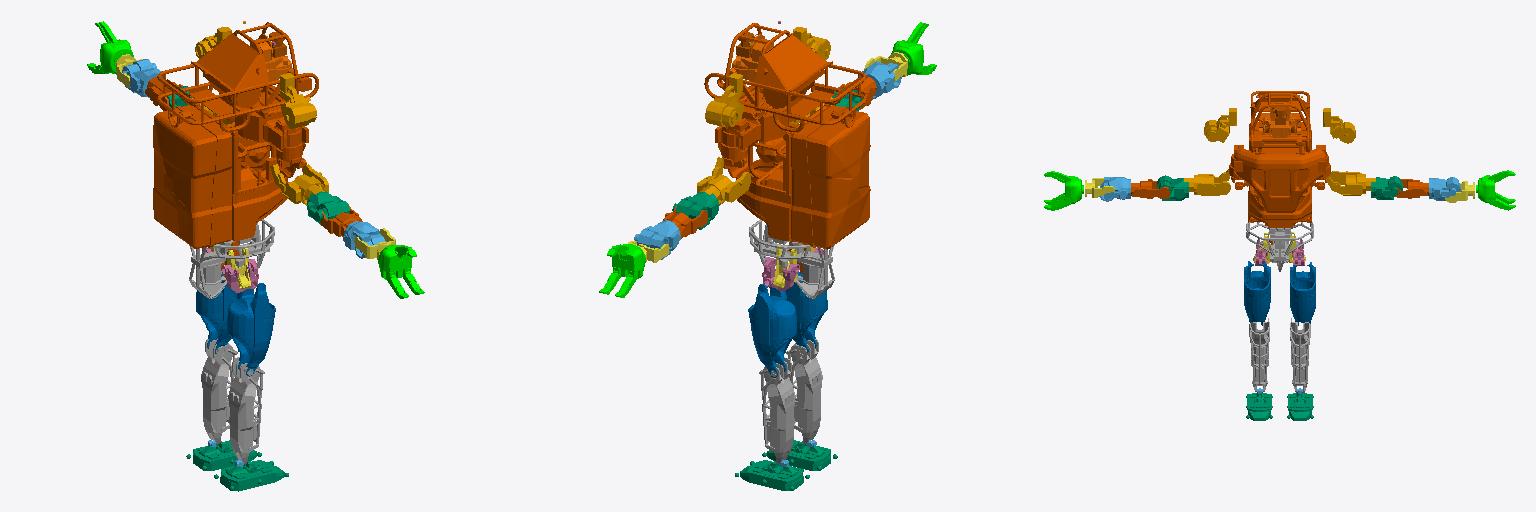
--- What the picture shows (computed from the rendered views, not written in the file) ---
The picture shows the robot from 3 angles, left to right: view 1: azimuth 30°, elevation 25°; view 2: azimuth 150°, elevation 25°; view 3: azimuth 270°, elevation 25°; orthographic projection.
Model atlas with 94 links and 93 joints (28 revolute, 65 fixed), rooted at pelvis, posed every joint at zero.
Links seen in each view (by area): view 1: utorso, r_uleg, r_lleg, l_lleg, pelvis, l_uleg, r_foot, r_scap, r_clav, l_foot, r_uarm, l_ufarm (+7 smaller); view 2: utorso, l_uleg, l_lleg, r_lleg, pelvis, r_uleg, l_foot, l_clav, l_scap, r_foot, l_ufarm, l_uarm (+7 smaller); view 3: utorso, r_uleg, l_uleg, pelvis, l_lleg, r_lleg, l_scap, r_scap, r_clav, head, l_foot, r_foot (+6 smaller).
Link boxes in pixels (x1=…): utorso: x1=153, y1=22, x2=318, y2=248; r_uleg: x1=227, y1=283, x2=275, y2=376; r_lleg: x1=228, y1=357, x2=264, y2=463; l_lleg: x1=201, y1=339, x2=237, y2=443; pelvis: x1=189, y1=219, x2=274, y2=298; l_uleg: x1=196, y1=273, x2=237, y2=353; r_foot: x1=214, y1=460, x2=288, y2=491; r_scap: x1=270, y1=164, x2=328, y2=205; r_clav: x1=280, y1=73, x2=316, y2=128; l_foot: x1=186, y1=440, x2=261, y2=470; r_uarm: x1=307, y1=190, x2=349, y2=224; l_ufarm: x1=122, y1=59, x2=162, y2=97; utorso: x1=704, y1=23, x2=870, y2=249; l_uleg: x1=748, y1=284, x2=796, y2=377; l_lleg: x1=759, y1=357, x2=795, y2=463; r_lleg: x1=786, y1=339, x2=822, y2=443; pelvis: x1=749, y1=219, x2=834, y2=299; r_uleg: x1=785, y1=272, x2=827, y2=352; l_foot: x1=735, y1=460, x2=809, y2=490; l_clav: x1=705, y1=73, x2=743, y2=126; l_scap: x1=697, y1=157, x2=750, y2=205; r_foot: x1=762, y1=440, x2=837, y2=470; l_ufarm: x1=634, y1=220, x2=680, y2=259; l_uarm: x1=672, y1=192, x2=718, y2=229; utorso: x1=1229, y1=91, x2=1330, y2=227; r_uleg: x1=1244, y1=261, x2=1270, y2=325; l_uleg: x1=1290, y1=262, x2=1315, y2=325; pelvis: x1=1246, y1=222, x2=1313, y2=271; l_lleg: x1=1290, y1=318, x2=1310, y2=392; r_lleg: x1=1249, y1=318, x2=1269, y2=391; l_scap: x1=1326, y1=171, x2=1375, y2=195; r_scap: x1=1184, y1=169, x2=1230, y2=195; r_clav: x1=1204, y1=108, x2=1236, y2=142; head: x1=1259, y1=102, x2=1300, y2=137; l_foot: x1=1287, y1=393, x2=1313, y2=420; r_foot: x1=1246, y1=393, x2=1272, y2=420.
Size in the robot's own frame: 0.6238 by 2.6 by 1.96 metres.
Meshes: 29 distinct files referenced, 56 mesh visuals loaded (29 OBJ).

The robot description file, URDF, robot "atlas":
<?xml version="1.0" ?>
<!-- =================================================================================== -->
<!-- |    This document was autogenerated by xacro from atlas_v4_minimal_contact.xacro | -->
<!-- |    EDITING THIS FILE BY HAND IS NOT RECOMMENDED                                 | -->
<!-- =================================================================================== -->
<robot name="atlas" xmlns:xacro="http://ros.org/wiki/xacro">
  <link name="l_clav">
    <inertial>
      <mass value="4.466"/>
      <origin rpy="0 -0 0" xyz="0 -0.048 -0.084"/>
      <inertia ixx="0.011" ixy="0" ixz="0" iyy="0.009" iyz="0.004" izz="0.004"/>
    </inertial>
    <visual>
      <geometry>
        <mesh filename="package://atlas_v4/meshes/r_clav.obj" scale="1 1 1"/>
      </geometry>
    </visual>
  </link>
  <link name="l_ufarm">
    <inertial>
      <mass value="4.386"/>
      <origin rpy="0 -0 0" xyz="0 0.065 0"/>
      <inertia ixx="0.00656" ixy="0" ixz="0" iyy="0.00358" iyz="0" izz="0.00656"/>
    </inertial>
    <visual>
      <geometry>
        <mesh filename="package://atlas_v4/meshes/r_farm.obj" scale="1 1 1"/>
      </geometry>
    </visual>
  </link>
  <link name="l_foot">
    <inertial>
      <mass value="2.41"/>
      <origin rpy="0 -0 0" xyz="0.027 0 -0.067"/>
      <inertia ixx="0.002" ixy="0" ixz="0" iyy="0.007" iyz="0" izz="0.008"/>
    </inertial>
    <visual>
      <geometry>
        <mesh filename="package://atlas_v4/meshes/l_foot.obj" scale="1 1 1"/>
      </geometry>
    </visual>
    <collision group="heel">
      <origin rpy="0 0 0" xyz="-0.0876 0.066 -0.07645"/>
      <geometry>
        <sphere radius="0.0"/>
      </geometry>
    </collision>
    <visual group="heel">
      <origin rpy="0 0 0" xyz="-0.0876 0.066 -0.07645"/>
      <geometry>
        <sphere radius="0.01"/>
      </geometry>
    </visual>
    <collision group="heel">
      <origin rpy="0 0 0" xyz="-0.0876 -0.0626 -0.07645"/>
      <geometry>
        <sphere radius="0.0"/>
      </geometry>
    </collision>
    <visual group="heel">
      <origin rpy="0 0 0" xyz="-0.0876 -0.0626 -0.07645"/>
      <geometry>
        <sphere radius="0.01"/>
      </geometry>
    </visual>
    <collision group="toe">
      <origin rpy="0 0 0" xyz="0.1728 0.066 -0.07645"/>
      <geometry>
        <sphere radius="0.0"/>
      </geometry>
    </collision>
    <visual group="toe">
      <origin rpy="0 0 0" xyz="0.1728 0.066 -0.07645"/>
      <geometry>
        <sphere radius="0.01"/>
      </geometry>
    </visual>
    <collision group="toe">
      <origin rpy="0 0 0" xyz="0.1728 -0.0626 -0.07645"/>
      <geometry>
        <sphere radius="0.0"/>
      </geometry>
    </collision>
    <visual group="toe">
      <origin rpy="0 0 0" xyz="0.1728 -0.0626 -0.07645"/>
      <geometry>
        <sphere radius="0.01"/>
      </geometry>
    </visual>
    <collision group="midfoot">
      <origin rpy="0 0 0" xyz="0.0426 0.066 -0.07645"/>
      <geometry>
        <sphere radius="0.0"/>
      </geometry>
    </collision>
    <visual group="midfoot">
      <origin rpy="0 0 0" xyz="0.0426 0.066 -0.07645"/>
      <geometry>
        <sphere radius="0.01"/>
      </geometry>
    </visual>
    <collision group="midfoot">
      <origin rpy="0 0 0" xyz="0.0426 -0.0626 -0.07645"/>
      <geometry>
        <sphere radius="0.0"/>
      </geometry>
    </collision>
    <visual group="midfoot">
      <origin rpy="0 0 0" xyz="0.0426 -0.0626 -0.07645"/>
      <geometry>
        <sphere radius="0.01"/>
      </geometry>
    </visual>
  </link>
  <link name="l_lfarm">
    <inertial>
      <mass value="2.509"/>
      <origin rpy="0 -0 0" xyz="0 0 0"/>
      <inertia ixx="0.00265" ixy="0" ixz="0" iyy="0.00446" iyz="0" izz="0.00446"/>
    </inertial>
    <visual>
      <geometry>
        <mesh filename="package://atlas_v4/meshes/r_hand.obj" scale="1 1 1"/>
      </geometry>
      <origin rpy="0 3.14159265359 0" xyz="0 0 0"/>
    </visual>
  </link>
  <link name="l_hand">
    <inertial>
      <mass value="0.1"/>
      <origin rpy="0 0 0" xyz="0 0 0"/>
      <inertia ixx="0.0001" ixy="0" ixz="0" iyy="0.0001" iyz="0" izz="0.0001"/>
    </inertial>
  </link>
  <link name="l_larm">
    <inertial>
      <mass value="3.248"/>
      <origin rpy="0 -0 0" xyz="0 0 0"/>
      <inertia ixx="0.00265" ixy="0" ixz="0" iyy="0.00446" iyz="0" izz="0.00446"/>
    </inertial>
    <visual>
      <geometry>
        <mesh filename="package://atlas_v4/meshes/r_larm.obj" scale="1 1 1"/>
      </geometry>
    </visual>
  </link>
  <link name="l_lglut">
    <inertial>
      <mass value="0.898"/>
      <origin rpy="0 -0 0" xyz="0.0133341 0.0170484 -0.0312052"/>
      <inertia ixx="0.000691326" ixy="-2.24344e-05" ixz="2.50508e-06" iyy="0.00126856" iyz="0.000137862" izz="0.00106487"/>
    </inertial>
    <visual>
      <geometry>
        <mesh filename="package://atlas_v4/meshes/l_lglut.obj" scale="1 1 1"/>
      </geometry>
    </visual>
  </link>
  <link name="l_lleg">
    <inertial>
      <mass value="4.515"/>
      <origin rpy="0 -0 0" xyz="0.001 0 -0.187"/>
      <inertia ixx="0.077" ixy="0" ixz="-0.003" iyy="0.076" iyz="0" izz="0.01"/>
    </inertial>
    <visual>
      <geometry>
        <mesh filename="package://atlas_v4/meshes/l_lleg.obj" scale="1 1 1"/>
      </geometry>
    </visual>
  </link>
  <link name="l_scap">
    <inertial>
      <mass value="3.899"/>
      <origin rpy="0 -0 0" xyz="0 0 0"/>
      <inertia ixx="0.00319" ixy="0" ixz="0" iyy="0.00583" iyz="0" izz="0.00583"/>
    </inertial>
    <visual>
      <geometry>
        <mesh filename="package://atlas_v4/meshes/r_scap.obj" scale="1 1 1"/>
      </geometry>
    </visual>
  </link>
  <link name="l_talus">
    <inertial>
      <mass value="0.125"/>
      <origin rpy="0 -0 0" xyz="0 0 0"/>
      <inertia ixx="1.01674e-05" ixy="0" ixz="0" iyy="8.42775e-06" iyz="0" izz="1.30101e-05"/>
    </inertial>
    <visual>
      <geometry>
        <mesh filename="package://atlas_v4/meshes/l_talus.obj" scale="1 1 1"/>
      </geometry>
    </visual>
  </link>
  <link name="l_uarm">
    <inertial>
      <mass value="4.386"/>
      <origin rpy="0 -0 0" xyz="0 0.065 0"/>
      <inertia ixx="0.00656" ixy="0" ixz="0" iyy="0.00358" iyz="0" izz="0.00656"/>
    </inertial>
    <visual>
      <geometry>
        <mesh filename="package://atlas_v4/meshes/r_uarm.obj" scale="1 1 1"/>
      </geometry>
    </visual>
  </link>
  <link name="l_uglut">
    <inertial>
      <mass value="1.959"/>
      <origin rpy="0 -0 0" xyz="0.00529262 -0.00344732 0.00313046"/>
      <inertia ixx="0.00074276" ixy="-3.79607e-08" ixz="-2.79549e-05" iyy="0.000688179" iyz="-3.2735e-08" izz="0.00041242"/>
    </inertial>
    <visual>
      <geometry>
        <mesh filename="package://atlas_v4/meshes/l_uglut.obj" scale="1 1 1"/>
      </geometry>
    </visual>
  </link>
  <link name="l_uleg">
    <inertial>
      <mass value="8.204"/>
      <origin rpy="0 -0 0" xyz="0 0 -0.21"/>
      <inertia ixx="0.09" ixy="0" ixz="0" iyy="0.09" iyz="0" izz="0.02"/>
    </inertial>
    <visual>
      <geometry>
        <mesh filename="package://atlas_v4/meshes/l_uleg.obj" scale="1 1 1"/>
      </geometry>
    </visual>
    <!-- to cover the logo shield -->
    <!-- inside strut -->
    <!-- outside strut -->
  </link>
  <link name="ltorso">
    <inertial>
      <mass value="2.270"/>
      <origin rpy="0 -0 0" xyz="-0.0112984 -3.15366e-06 0.0746835"/>
      <inertia ixx="0.0039092" ixy="-5.04491e-08" ixz="-0.000342157" iyy="0.00341694" iyz="4.87119e-07" izz="0.00174492"/>
    </inertial>
    <visual>
      <geometry>
        <mesh filename="package://atlas_v4/meshes/ltorso.obj" scale="1 1 1"/>
      </geometry>
    </visual>
  </link>
  <link name="mtorso">
    <inertial>
      <mass value="0.799"/>
      <origin rpy="0 -0 0" xyz="-0.00816266 -0.0131245 0.0305974"/>
      <inertia ixx="0.000454181" ixy="-6.10764e-05" ixz="3.94009e-05" iyy="0.000483282" iyz="5.27463e-05" izz="0.000444215"/>
    </inertial>
    <visual>
      <geometry>
        <mesh filename="package://atlas_v4/meshes/mtorso.obj" scale="1 1 1"/>
      </geometry>
    </visual>
  </link>
  <link name="pelvis">
    <inertial>
      <mass value="9.509"/>
      <origin rpy="0 -0 0" xyz="0.0111 0 0.0271"/>
      <inertia ixx="0.1244" ixy="0.0008" ixz="-0.0007" iyy="0.0958" iyz="-0.0005" izz="0.1167"/>
    </inertial>
    <visual>
      <geometry>
        <mesh filename="package://atlas_v4/meshes/pelvis.obj" scale="1 1 1"/>
      </geometry>
    </visual>
  </link>
  <link name="r_clav">
    <inertial>
      <mass value="4.466"/>
      <origin rpy="0 -0 0" xyz="0 -0.048 -0.084"/>
      <inertia ixx="0.011" ixy="0" ixz="0" iyy="0.009" iyz="0.004" izz="0.004"/>
    </inertial>
    <visual>
      <geometry>
        <mesh filename="package://atlas_v4/meshes/r_clav.obj" scale="1 1 1"/>
      </geometry>
    </visual>
  </link>
  <link name="r_ufarm">
    <inertial>
      <mass value="4.386"/>
      <origin rpy="0 -0 0" xyz="0 0.065 0"/>
      <inertia ixx="0.00656" ixy="0" ixz="0" iyy="0.00358" iyz="0" izz="0.00656"/>
    </inertial>
    <visual>
      <geometry>
        <mesh filename="package://atlas_v4/meshes/r_farm.obj" scale="1 1 1"/>
      </geometry>
    </visual>
  </link>
  <link name="r_foot">
    <inertial>
      <mass value="2.41"/>
      <origin rpy="0 -0 0" xyz="0.027 0 -0.067"/>
      <inertia ixx="0.002" ixy="0" ixz="0" iyy="0.007" iyz="0" izz="0.008"/>
    </inertial>
    <visual>
      <geometry>
        <mesh filename="package://atlas_v4/meshes/r_foot.obj" scale="1 1 1"/>
      </geometry>
    </visual>
    <collision group="heel">
      <origin rpy="0 0 0" xyz="-0.0876 0.0626 -0.07645"/>
      <geometry>
        <sphere radius="0.0"/>
      </geometry>
    </collision>
    <visual group="heel">
      <origin rpy="0 0 0" xyz="-0.0876 0.0626 -0.07645"/>
      <geometry>
        <sphere radius="0.01"/>
      </geometry>
    </visual>
    <collision group="heel">
      <origin rpy="0 0 0" xyz="-0.0876 -0.066 -0.07645"/>
      <geometry>
        <sphere radius="0.0"/>
      </geometry>
    </collision>
    <visual group="heel">
      <origin rpy="0 0 0" xyz="-0.0876 -0.066 -0.07645"/>
      <geometry>
        <sphere radius="0.01"/>
      </geometry>
    </visual>
    <collision group="toe">
      <origin rpy="0 0 0" xyz="0.1728 0.0626 -0.07645"/>
      <geometry>
        <sphere radius="0.0"/>
      </geometry>
    </collision>
    <visual group="toe">
      <origin rpy="0 0 0" xyz="0.1728 0.0626 -0.07645"/>
      <geometry>
        <sphere radius="0.01"/>
      </geometry>
    </visual>
    <collision group="toe">
      <origin rpy="0 0 0" xyz="0.1728 -0.066 -0.07645"/>
      <geometry>
        <sphere radius="0.0"/>
      </geometry>
    </collision>
    <visual group="toe">
      <origin rpy="0 0 0" xyz="0.1728 -0.066 -0.07645"/>
      <geometry>
        <sphere radius="0.01"/>
      </geometry>
    </visual>
    <collision group="midfoot">
      <origin rpy="0 0 0" xyz="0.0426 0.0626 -0.07645"/>
      <geometry>
        <sphere radius="0.0"/>
      </geometry>
    </collision>
    <visual group="midfoot">
      <origin rpy="0 0 0" xyz="0.0426 0.0626 -0.07645"/>
      <geometry>
        <sphere radius="0.01"/>
      </geometry>
    </visual>
    <collision group="midfoot">
      <origin rpy="0 0 0" xyz="0.0426 -0.066 -0.07645"/>
      <geometry>
        <sphere radius="0.0"/>
      </geometry>
    </collision>
    <visual group="midfoot">
      <origin rpy="0 0 0" xyz="0.0426 -0.066 -0.07645"/>
      <geometry>
        <sphere radius="0.01"/>
      </geometry>
    </visual>
  </link>
  <link name="r_lfarm">
    <inertial>
      <mass value="2.509"/>
      <origin rpy="0 -0 0" xyz="0 0 0"/>
      <inertia ixx="0.00265" ixy="0" ixz="0" iyy="0.00446" iyz="0" izz="0.00446"/>
    </inertial>
    <visual>
      <geometry>
        <mesh filename="package://atlas_v4/meshes/r_hand.obj" scale="1 1 1"/>
      </geometry>
      <origin rpy="0 3.14159265359 0" xyz="0 0 0"/>
    </visual>
  </link>
  <link name="r_hand">
    <inertial>
      <mass value="0.1"/>
      <origin rpy="0 0 0" xyz="0 0 0"/>
      <inertia ixx="0.0001" ixy="0" ixz="0" iyy="0.0001" iyz="0" izz="0.0001"/>
    </inertial>
  </link>
  <link name="r_larm">
    <inertial>
      <mass value="3.248"/>
      <origin rpy="0 -0 0" xyz="0 0 0"/>
      <inertia ixx="0.00265" ixy="0" ixz="0" iyy="0.00446" iyz="0" izz="0.00446"/>
    </inertial>
    <visual>
      <geometry>
        <mesh filename="package://atlas_v4/meshes/r_larm.obj" scale="1 1 1"/>
      </geometry>
    </visual>
  </link>
  <link name="r_lglut">
    <inertial>
      <mass value="0.898"/>
      <origin rpy="0 -0 0" xyz="0.0133341 -0.0170484 -0.0312052"/>
      <inertia ixx="0.000691326" ixy="2.24344e-05" ixz="2.50508e-06" iyy="0.00126856" iyz="-0.000137862" izz="0.00106487"/>
    </inertial>
    <visual>
      <geometry>
        <mesh filename="package://atlas_v4/meshes/r_lglut.obj" scale="1 1 1"/>
      </geometry>
    </visual>
  </link>
  <link name="r_lleg">
    <inertial>
      <mass value="4.515"/>
      <origin rpy="0 -0 0" xyz="0.001 0 -0.187"/>
      <inertia ixx="0.077" ixy="-0" ixz="-0.003" iyy="0.076" iyz="-0" izz="0.01"/>
    </inertial>
    <visual>
      <geometry>
        <mesh filename="package://atlas_v4/meshes/r_lleg.obj" scale="1 1 1"/>
      </geometry>
    </visual>
  </link>
  <link name="r_scap">
    <inertial>
      <mass value="3.899"/>
      <origin rpy="0 -0 0" xyz="0 0 0"/>
      <inertia ixx="0.00319" ixy="0" ixz="0" iyy="0.00583" iyz="0" izz="0.00583"/>
    </inertial>
    <visual>
      <geometry>
        <mesh filename="package://atlas_v4/meshes/r_scap.obj" scale="1 1 1"/>
      </geometry>
    </visual>
  </link>
  <link name="r_talus">
    <inertial>
      <mass value="0.125"/>
      <origin rpy="0 -0 0" xyz="0 0 0"/>
      <inertia ixx="1.01674e-05" ixy="0" ixz="0" iyy="8.42775e-06" iyz="0" izz="1.30101e-05"/>
    </inertial>
    <visual>
      <geometry>
        <mesh filename="package://atlas_v4/meshes/r_talus.obj" scale="1 1 1"/>
      </geometry>
    </visual>
  </link>
  <link name="r_uarm">
    <inertial>
      <mass value="4.386"/>
      <origin rpy="0 -0 0" xyz="0 0.065 0"/>
      <inertia ixx="0.00656" ixy="0" ixz="0" iyy="0.00358" iyz="0" izz="0.00656"/>
    </inertial>
    <visual>
      <geometry>
        <mesh filename="package://atlas_v4/meshes/r_uarm.obj" scale="1 1 1"/>
      </geometry>
    </visual>
  </link>
  <link name="r_uglut">
    <inertial>
      <mass value="1.959"/>
      <origin rpy="0 -0 0" xyz="0.00529262 0.00344732 0.00313046"/>
      <inertia ixx="0.00074276" ixy="3.79607e-08" ixz="-2.79549e-05" iyy="0.000688179" iyz="3.2735e-08" izz="0.00041242"/>
    </inertial>
    <visual>
      <geometry>
        <mesh filename="package://atlas_v4/meshes/r_uglut.obj" scale="1 1 1"/>
      </geometry>
    </visual>
  </link>
  <link name="r_uleg">
    <inertial>
      <mass value="8.204"/>
      <origin rpy="0 -0 0" xyz="0 0 -0.21"/>
      <inertia ixx="0.09" ixy="0" ixz="0" iyy="0.09" iyz="0" izz="0.02"/>
    </inertial>
    <visual>
      <geometry>
        <mesh filename="package://atlas_v4/meshes/r_uleg.obj" scale="1 1 1"/>
      </geometry>
    </visual>
    <!-- to cover the logo shield -->
    <!-- inside strut -->
    <!-- outside strut -->
  </link>
  <link name="utorso">
    <inertial>
      <mass value="84.409"/>
      <origin rpy="0 -0 0" xyz="-0.0622 0.0023 0.3157"/>
      <inertia ixx="1.577" ixy="-0.032" ixz="0.102" iyy="1.602" iyz="0.047" izz="0.565"/>
    </inertial>
    <visual>
      <geometry>
        <mesh filename="package://atlas_v4/meshes/utorso.obj" scale="1 1 1"/>
      </geometry>
    </visual>
  </link>
  <joint name="back_bkx" type="revolute">
    <origin rpy="0 -0 0" xyz="0 0 0.05"/>
    <axis xyz="1 0 0"/>
    <parent link="mtorso"/>
    <child link="utorso"/>
    <dynamics damping="0.1" friction="0"/>
    <limit effort="300" lower="-0.523599" upper="0.523599" velocity="12"/>
    <safety_controller k_position="100" k_velocity="100" soft_lower_limit="-10.5236" soft_upper_limit="10.5236"/>
  </joint>
  <joint name="back_bky" type="revolute">
    <origin rpy="0 -0 0" xyz="0 0 0.162"/>
    <axis xyz="0 1 0"/>
    <parent link="ltorso"/>
    <child link="mtorso"/>
    <dynamics damping="0.1" friction="0"/>
    <limit effort="445" lower="-0.219388" upper="0.538783" velocity="9"/>
    <safety_controller k_position="100" k_velocity="100" soft_lower_limit="-10.2194" soft_upper_limit="10.5388"/>
  </joint>
  <joint name="back_bkz" type="revolute">
    <origin rpy="0 -0 0" xyz="-0.0125 0 0"/>
    <axis xyz="0 0 1"/>
    <parent link="pelvis"/>
    <child link="ltorso"/>
    <dynamics damping="0.1" friction="0"/>
    <limit effort="106" lower="-0.663225" upper="0.663225" velocity="12"/>
    <safety_controller k_position="100" k_velocity="100" soft_lower_limit="-10.6632" soft_upper_limit="10.6632"/>
  </joint>
  <joint name="l_arm_elx" type="revolute">
    <origin rpy="0 -0 0" xyz="0 -0.119 0.0092"/>
    <axis xyz="-1.0 -0.0 -0.0"/>
    <parent link="l_uarm"/>
    <child link="l_larm"/>
    <dynamics damping="0.2" friction="0"/>
    <limit effort="112" lower="0" upper="2.35619" velocity="12"/>
    <safety_controller k_position="100" k_velocity="100" soft_lower_limit="-10" soft_upper_limit="12.3562"/>
  </joint>
  <joint name="l_arm_ely" type="revolute">
    <origin rpy="0 -0 0" xyz="0 -0.187 -0.016"/>
    <axis xyz="-0.0 -1.0 -0.0"/>
    <parent link="l_scap"/>
    <child link="l_uarm"/>
    <dynamics damping="0.2" friction="0"/>
    <limit effort="63" lower="0" upper="3.14159" velocity="12"/>
    <safety_controller k_position="100" k_velocity="100" soft_lower_limit="-10" soft_upper_limit="13.1416"/>
  </joint>
  <joint name="l_arm_shx" type="revolute">
    <origin rpy="0 -0 0" xyz="0 -0.11 -0.245"/>
    <axis xyz="-1.0 -0.0 -0.0"/>
    <parent link="l_clav"/>
    <child link="l_scap"/>
    <dynamics damping="0.1" friction="0"/>
    <limit effort="99" lower="-1.5708" upper="1.5708" velocity="12"/>
    <safety_controller k_position="100" k_velocity="100" soft_lower_limit="-11.5708" soft_upper_limit="11.5708"/>
  </joint>
  <joint name="l_arm_shz" type="revolute">
    <origin rpy="0 0 3.14159265359" xyz="0.1406 0.2256 0.4776"/>
    <axis xyz="0 0 1"/>
    <parent link="utorso"/>
    <child link="l_clav"/>
    <dynamics damping="0.1" friction="0"/>
    <limit effort="87" lower="-1.5708" upper="0.785398" velocity="12"/>
    <safety_controller k_position="100" k_velocity="100" soft_lower_limit="-11.5708" soft_upper_limit="10.7854"/>
    <!-- note, this is opposite of v1 and v3 -->
  </joint>
  <joint name="l_arm_mwx" type="revolute">
    <origin rpy="0 -0 0" xyz="0 -0.119 0.0092"/>
    <axis xyz="1 0 0"/>
    <parent link="l_ufarm"/>
    <child link="l_lfarm"/>
    <dynamics damping="0.1" friction="0"/>
    <limit effort="25" lower="-1.1781" upper="1.1781" velocity="12"/>
    <safety_controller k_position="100" k_velocity="100" soft_lower_limit="-11.1781" soft_upper_limit="11.1781"/>
  </joint>
  <joint name="l_arm_uwy" type="revolute">
    <origin rpy="0 3.14159265359 0" xyz="0 -0.187 -0.0092"/>
    <axis xyz="-0.0 -1.0 -0.0"/>
    <parent link="l_larm"/>
    <child link="l_ufarm"/>
    <dynamics damping="0.1" friction="0"/>
    <limit effort="25" lower="0" upper="3.14159" velocity="12"/>
    <safety_controller k_position="100" k_velocity="100" soft_lower_limit="-10" soft_upper_limit="13.1416"/>
  </joint>
  <joint name="l_arm_lwy" type="fixed">
    <origin rpy="0 3.14159265359 0" xyz="0 0 0"/>
    <axis xyz="0 1 0"/>
    <parent link="l_lfarm"/>
    <child link="l_hand"/>
    <dynamics damping="0.1" friction="0"/>
    <limit effort="5" lower="-0.001" upper="0.001" velocity="1"/>
    <safety_controller k_position="1" k_velocity="0.01" soft_lower_limit="0" soft_upper_limit="0.1"/>
  </joint>
  <joint name="l_leg_akx" type="revolute">
    <origin rpy="0 -0 0" xyz="0 0 0"/>
    <axis xyz="1 0 0"/>
    <parent link="l_talus"/>
    <child link="l_foot"/>
    <dynamics damping="0.1" friction="0"/>
    <limit effort="360" lower="-0.8" upper="0.8" velocity="12"/>
    <safety_controller k_position="100" k_velocity="100" soft_lower_limit="-10.8" soft_upper_limit="10.8"/>
  </joint>
  <joint name="l_leg_aky" type="revolute">
    <origin rpy="0 -0 0" xyz="0 0 -0.422"/>
    <axis xyz="0 1 0"/>
    <parent link="l_lleg"/>
    <child link="l_talus"/>
    <dynamics damping="0.1" friction="0"/>
    <limit effort="740" lower="-1" upper="0.7" velocity="12"/>
    <safety_controller k_position="100" k_velocity="100" soft_lower_limit="-11" soft_upper_limit="10.7"/>
  </joint>
  <joint name="l_leg_hpx" type="revolute">
    <origin rpy="0 -0 0" xyz="0 0 0"/>
    <axis xyz="1 0 0"/>
    <parent link="l_uglut"/>
    <child link="l_lglut"/>
    <dynamics damping="0.1" friction="0"/>
    <limit effort="530" lower="-0.523599" upper="0.523599" velocity="12"/>
    <safety_controller k_position="100" k_velocity="100" soft_lower_limit="-10.5236" soft_upper_limit="10.5236"/>
  </joint>
  <joint name="l_leg_hpy" type="revolute">
    <origin rpy="0 -0 0" xyz="0.05 0.0225 -0.066"/>
    <axis xyz="0 1 0"/>
    <parent link="l_lglut"/>
    <child link="l_uleg"/>
    <dynamics damping="0.1" friction="0"/>
    <limit effort="840" lower="-1.61234" upper="0.65764" velocity="12"/>
    <safety_controller k_position="100" k_velocity="100" soft_lower_limit="-11.6123" soft_upper_limit="10.6576"/>
  </joint>
  <joint name="l_leg_hpz" type="revolute">
    <origin rpy="0 -0 0" xyz="0 0.089 0"/>
    <axis xyz="0 0 1"/>
    <parent link="pelvis"/>
    <child link="l_uglut"/>
    <dynamics damping="0.1" friction="0"/>
    <limit effort="275" lower="-0.174358" upper="0.786794" velocity="12"/>
    <safety_controller k_position="100" k_velocity="100" soft_lower_limit="-10.1744" soft_upper_limit="10.7868"/>
  </joint>
  <joint name="l_leg_kny" type="revolute">
    <origin rpy="0 -0 0" xyz="-0.05 0 -0.374"/>
    <axis xyz="0 1 0"/>
    <parent link="l_uleg"/>
    <child link="l_lleg"/>
    <dynamics damping="0.2" friction="0"/>
    <limit effort="890" lower="0" upper="2.35637" velocity="12"/>
    <safety_controller k_position="100" k_velocity="100" soft_lower_limit="-10" soft_upper_limit="12.3564"/>
  </joint>
  <joint name="neck_ay" type="revolute">
    <origin rpy="0 -0 0" xyz="0.2546 0 0.6215"/>
    <axis xyz="0 1 0"/>
    <parent link="utorso"/>
    <child link="head"/>
    <dynamics damping="0.1" friction="0"/>
    <limit effort="5" lower="-0.602139" upper="1.14319" velocity="6.28"/>
    <safety_controller k_position="100" k_velocity="100" soft_lower_limit="-10.6021" soft_upper_limit="11.1432"/>
  </joint>
  <joint name="r_arm_elx" type="revolute">
    <origin rpy="0 -0 0" xyz="0 -0.119 0.0092"/>
    <axis xyz="1 0 0"/>
    <parent link="r_uarm"/>
    <child link="r_larm"/>
    <dynamics damping="0.2" friction="0"/>
    <limit effort="112" lower="-2.35619" upper="0" velocity="12"/>
    <safety_controller k_position="100" k_velocity="100" soft_lower_limit="-12.3562" soft_upper_limit="10"/>
  </joint>
  <joint name="r_arm_ely" type="revolute">
    <origin rpy="0 -0 0" xyz="0 -0.187 -0.016"/>
    <axis xyz="0 1 0"/>
    <parent link="r_scap"/>
    <child link="r_uarm"/>
    <dynamics damping="0.2" friction="0"/>
    <limit effort="63" lower="0" upper="3.14159" velocity="12"/>
    <safety_controller k_position="100" k_velocity="100" soft_lower_limit="-10" soft_upper_limit="13.1416"/>
  </joint>
  <joint name="r_arm_shx" type="revolute">
    <origin rpy="0 -0 0" xyz="0 -0.11 -0.245"/>
    <axis xyz="1 0 0"/>
    <parent link="r_clav"/>
    <child link="r_scap"/>
    <dynamics damping="0.1" friction="0"/>
    <limit effort="99" lower="-1.5708" upper="1.5708" velocity="12"/>
    <safety_controller k_position="100" k_velocity="100" soft_lower_limit="-11.5708" soft_upper_limit="11.5708"/>
  </joint>
  <joint name="r_arm_shz" type="revolute">
    <origin rpy="0 -0 0" xyz="0.1406 -0.2256 0.4776"/>
    <axis xyz="0 0 1"/>
    <!-- note, this is opposite of v1 and v3 -->
    <parent link="utorso"/>
    <child link="r_clav"/>
    <dynamics damping="0.1" friction="0"/>
    <limit effort="87" lower="-0.785398" upper="1.5708" velocity="12"/>
    <safety_controller k_position="100" k_velocity="100" soft_lower_limit="-10.7854" soft_upper_limit="11.5708"/>
  </joint>
  <joint name="r_arm_mwx" type="revolute">
    <origin rpy="0 -0 0" xyz="0 -0.119 0.0092"/>
    <axis xyz="1 0 0"/>
    <parent link="r_ufarm"/>
    <child link="r_lfarm"/>
    <dynamics damping="0.1" friction="0"/>
    <limit effort="25" lower="-1.1781" upper="1.1781" velocity="12"/>
    <safety_controller k_position="100" k_velocity="100" soft_lower_limit="-11.1781" soft_upper_limit="11.1781"/>
  </joint>
  <joint name="r_arm_uwy" type="revolute">
    <origin rpy="0 -0 0" xyz="0 -0.187 -0.0092"/>
    <axis xyz="0 1 0"/>
    <parent link="r_larm"/>
    <child link="r_ufarm"/>
    <dynamics damping="0.1" friction="0"/>
    <limit effort="25" lower="0" upper="3.14159" velocity="12"/>
    <safety_controller k_position="100" k_velocity="100" soft_lower_limit="-10" soft_upper_limit="13.1416"/>
  </joint>
  <joint name="r_arm_lwy" type="fixed">
    <origin rpy="0 0 0" xyz="0 0 0"/>
    <axis xyz="0 1 0"/>
    <parent link="r_lfarm"/>
    <child link="r_hand"/>
    <dynamics damping="0.1" friction="0"/>
    <limit effort="5" lower="-0.001" upper="0.001" velocity="1"/>
    <safety_controller k_position="1" k_velocity="0.01" soft_lower_limit="0" soft_upper_limit="0.1"/>
  </joint>
  <joint name="r_leg_akx" type="revolute">
    <origin rpy="0 -0 0" xyz="0 0 0"/>
    <axis xyz="1 0 0"/>
    <parent link="r_talus"/>
    <child link="r_foot"/>
    <dynamics damping="0.1" friction="0"/>
    <limit effort="360" lower="-0.8" upper="0.8" velocity="12"/>
    <safety_controller k_position="100" k_velocity="100" soft_lower_limit="-10.8" soft_upper_limit="10.8"/>
  </joint>
  <joint name="r_leg_aky" type="revolute">
    <origin rpy="0 -0 0" xyz="0 0 -0.422"/>
    <axis xyz="0 1 0"/>
    <parent link="r_lleg"/>
    <child link="r_talus"/>
    <dynamics damping="0.1" friction="0"/>
    <limit effort="740" lower="-1" upper="0.7" velocity="12"/>
    <safety_controller k_position="100" k_velocity="100" soft_lower_limit="-11" soft_upper_limit="10.7"/>
  </joint>
  <joint name="r_leg_hpx" type="revolute">
    <origin rpy="0 -0 0" xyz="0 0 0"/>
    <axis xyz="1 0 0"/>
    <parent link="r_uglut"/>
    <child link="r_lglut"/>
    <dynamics damping="0.1" friction="0"/>
    <limit effort="530" lower="-0.523599" upper="0.523599" velocity="12"/>
    <safety_controller k_position="100" k_velocity="100" soft_lower_limit="-10.5236" soft_upper_limit="10.5236"/>
  </joint>
  <joint name="r_leg_hpy" type="revolute">
    <origin rpy="0 -0 0" xyz="0.05 -0.0225 -0.066"/>
    <axis xyz="0 1 0"/>
    <parent link="r_lglut"/>
    <child link="r_uleg"/>
    <dynamics damping="0.1" friction="0"/>
    <limit effort="840" lower="-1.61234" upper="0.65764" velocity="12"/>
    <safety_controller k_position="100" k_velocity="100" soft_lower_limit="-11.6123" soft_upper_limit="10.6576"/>
  </joint>
  <joint name="r_leg_hpz" type="revolute">
    <origin rpy="0 -0 0" xyz="0 -0.089 0"/>
    <axis xyz="0 0 1"/>
    <parent link="pelvis"/>
    <child link="r_uglut"/>
    <dynamics damping="0.1" friction="0"/>
    <limit effort="275" lower="-0.786794" upper="0.174358" velocity="12"/>
    <safety_controller k_position="100" k_velocity="100" soft_lower_limit="-10.7868" soft_upper_limit="10.1744"/>
  </joint>
  <joint name="r_leg_kny" type="revolute">
    <origin rpy="0 -0 0" xyz="-0.05 0 -0.374"/>
    <axis xyz="0 1 0"/>
    <parent link="r_uleg"/>
    <child link="r_lleg"/>
    <dynamics damping="0.2" friction="0"/>
    <limit effort="890" lower="0" upper="2.35637" velocity="12"/>
    <safety_controller k_position="100" k_velocity="100" soft_lower_limit="-10" soft_upper_limit="12.3564"/>
  </joint>
  <link name="r_situational_awareness_camera_link">
    <inertial>
      <mass value="0.1"/>
      <origin xyz="0 0 0"/>
      <inertia ixx="0.00001" ixy="0" ixz="0" iyy="0.00001" iyz="0" izz="0.00001"/>
    </inertial>
    <visual>
      <origin rpy="0 0 0" xyz="0 0 0"/>
      <geometry>
        <box size="0.01 0.01 0.01"/>
      </geometry>
    </visual>
  </link>
  <joint name="r_situational_awareness_camera_joint" type="fixed">
    <parent link="utorso"/>
    <child link="r_situational_awareness_camera_link"/>
    <!-- SA camera mounted above the multisense head -->
    <origin rpy="0 0 -1.309" xyz="0.155 -0.121 0.785"/>
  </joint>
  <joint name="r_situational_awareness_camera_optical_frame_joint" type="fixed">
    <origin rpy="-1.5708 0.0 -1.5708" xyz="0 0 0"/>
    <parent link="r_situational_awareness_camera_link"/>
    <child link="r_situational_awareness_camera_optical_frame"/>
  </joint>
  <link name="r_situational_awareness_camera_optical_frame"/>
  <link name="l_situational_awareness_camera_link">
    <inertial>
      <mass value="0.1"/>
      <origin xyz="0 0 0"/>
      <inertia ixx="0.00001" ixy="0" ixz="0" iyy="0.00001" iyz="0" izz="0.00001"/>
    </inertial>
    <visual>
      <origin rpy="0 0 0" xyz="0 0 0"/>
      <geometry>
        <box size="0.01 0.01 0.01"/>
      </geometry>
    </visual>
  </link>
  <joint name="l_situational_awareness_camera_joint" type="fixed">
    <parent link="utorso"/>
    <child link="l_situational_awareness_camera_link"/>
    <!-- SA camera mounted above the multisense head -->
    <origin rpy="0 0 1.309" xyz="0.155 0.121 0.785"/>
  </joint>
  <joint name="l_situational_awareness_camera_optical_frame_joint" type="fixed">
    <origin rpy="-1.5708 0.0 -1.5708" xyz="0 0 0"/>
    <parent link="l_situational_awareness_camera_link"/>
    <child link="l_situational_awareness_camera_optical_frame"/>
  </joint>
  <link name="l_situational_awareness_camera_optical_frame"/>
  <frame link="l_foot" name="l_foot_sole" rpy="0 0 0" xyz="0.0426  0.0017 -0.07645"/>
  <frame link="r_foot" name="r_foot_sole" rpy="0 0 0" xyz="0.0426 -0.0017 -0.07645"/>
  <frame link="l_foot" name="l_foot_toe" rpy="0 0 0" xyz="0.1728 0.0017 -0.07645"/>
  <frame link="r_foot" name="r_foot_toe" rpy="0 0 0" xyz="0.1728 -0.0017 -0.07645"/>
  <link name="head">
    <inertial>
      <origin rpy="0 0 0" xyz="-0.075493 3.3383E-05 0.02774"/>
      <mass value="1.4199"/>
      <inertia ixx="0.0039688" ixy="-1.5797E-06" ixz="-0.00089293" iyy="0.0041178" iyz="-6.8415E-07" izz="0.0035243"/>
    </inertial>
    <visual>
      <origin rpy="0 0 0" xyz="0 0 0"/>
      <geometry>
        <mesh filename="package://multisense_sl/meshes/head.obj"/>
      </geometry>
      <material name="">
        <color rgba="0.9098 0.44314 0.031373 1"/>
      </material>
    </visual>
  </link>
  <link name="pre_spindle"/>
  <joint name="pre_spindle_joint" type="fixed">
    <axis xyz="0 1 0"/>
    <origin rpy="0 0 0" xyz="-0.0446 0 0.0880"/>
    <parent link="head"/>
    <child link="pre_spindle"/>
  </joint>
  <link name="pre_spindle_cal_x"/>
  <link name="pre_spindle_cal_y"/>
  <link name="pre_spindle_cal_z"/>
  <link name="pre_spindle_cal_roll"/>
  <link name="pre_spindle_cal_pitch"/>
  <link name="pre_spindle_cal_yaw"/>
  <joint name="pre_spindle_cal_x_joint" type="fixed">
    <parent link="pre_spindle"/>
    <child link="pre_spindle_cal_x"/>
    <axis xyz="1 0 0"/>
    <limit effort="0.0" lower="-0.5" upper="0.5" velocity="0.0"/>
  </joint>
  <joint name="pre_spindle_cal_y_joint" type="fixed">
    <parent link="pre_spindle_cal_x"/>
    <child link="pre_spindle_cal_y"/>
    <axis xyz="0 1 0"/>
    <limit effort="0.0" lower="-0.5" upper="0.5" velocity="0.0"/>
  </joint>
  <joint name="pre_spindle_cal_z_joint" type="fixed">
    <parent link="pre_spindle_cal_y"/>
    <child link="pre_spindle_cal_z"/>
    <axis xyz="0 0 1"/>
    <limit effort="0.0" lower="-0.5" upper="0.5" velocity="0.0"/>
  </joint>
  <joint name="pre_spindle_cal_roll_joint" type="fixed">
    <parent link="pre_spindle_cal_z"/>
    <child link="pre_spindle_cal_roll"/>
    <axis xyz="1 0 0"/>
  </joint>
  <joint name="pre_spindle_cal_pitch_joint" type="fixed">
    <parent link="pre_spindle_cal_roll"/>
    <child link="pre_spindle_cal_pitch"/>
    <axis xyz="0 1 0"/>
  </joint>
  <joint name="pre_spindle_cal_yaw_joint" type="fixed">
    <parent link="pre_spindle_cal_pitch"/>
    <child link="pre_spindle_cal_yaw"/>
    <axis xyz="0 0 1"/>
  </joint>
  <joint name="hokuyo_joint" type="fixed">
    <origin rpy="0 0 0" xyz="0 0 0"/>
    <parent link="pre_spindle_cal_yaw"/>
    <child link="post_spindle"/>
    <axis xyz="1 0 0"/>
  </joint>
  <link name="post_spindle"/>
  <link name="post_spindle_cal_x"/>
  <link name="post_spindle_cal_y"/>
  <link name="post_spindle_cal_z"/>
  <link name="post_spindle_cal_roll"/>
  <link name="post_spindle_cal_pitch"/>
  <joint name="post_spindle_cal_x_joint" type="fixed">
    <parent link="post_spindle"/>
    <child link="post_spindle_cal_x"/>
    <axis xyz="1 0 0"/>
    <limit effort="0.0" lower="-0.5" upper="0.5" velocity="0.0"/>
  </joint>
  <joint name="post_spindle_cal_y_joint" type="fixed">
    <parent link="post_spindle_cal_x"/>
    <child link="post_spindle_cal_y"/>
    <axis xyz="0 1 0"/>
    <limit effort="0.0" lower="-0.5" upper="0.5" velocity="0.0"/>
  </joint>
  <joint name="post_spindle_cal_z_joint" type="fixed">
    <parent link="post_spindle_cal_y"/>
    <child link="post_spindle_cal_z"/>
    <axis xyz="0 0 1"/>
    <limit effort="0.0" lower="-0.5" upper="0.5" velocity="0.0"/>
  </joint>
  <joint name="post_spindle_cal_roll_joint" type="fixed">
    <parent link="post_spindle_cal_z"/>
    <child link="post_spindle_cal_roll"/>
    <axis xyz="1 0 0"/>
  </joint>
  <joint name="post_spindle_cal_pitch_joint" type="fixed">
    <parent link="post_spindle_cal_roll"/>
    <child link="post_spindle_cal_pitch"/>
    <axis xyz="0 1 0"/>
  </joint>
  <joint name="post_spindle_cal_yaw_joint" type="fixed">
    <parent link="post_spindle_cal_pitch"/>
    <child link="hokuyo_link"/>
    <axis xyz="0 0 1"/>
  </joint>
  <link name="hokuyo_link">
    <inertial>
      <origin rpy="0 0 0" xyz="0.012428 0.0004084 -0.0041835"/>
      <mass value="0.057664"/>
      <inertia ixx="3.7174E-05" ixy="4.9927E-08" ixz="1.1015E-05" iyy="4.2412E-05" iyz="-9.8165E-09" izz="4.167E-05"/>
    </inertial>
    <visual>
      <origin rpy="-0.314 0 0" xyz="0.045 -0.0261018277 -0.08342369"/>
      <geometry>
        <mesh filename="package://multisense_sl/meshes/head_camera.obj"/>
      </geometry>
      <material name="">
        <color rgba="0.72941 0.35686 0.023529 1"/>
      </material>
    </visual>
  </link>
  <joint name="head_hokuyo_fixed_joint" type="fixed">
    <axis xyz="0 1 0"/>
    <origin rpy="0 0 0" xyz="0.03 0 0.015"/>
    <parent link="hokuyo_link"/>
    <child link="head_hokuyo_frame"/>
  </joint>
  <link name="head_hokuyo_frame">
    <inertial>
      <mass value="0.01"/>
      <origin rpy="0 0 0" xyz="0 0 0"/>
      <inertia ixx="0.00001" ixy="0" ixz="0" iyy="0.00001" iyz="0" izz="0.00001"/>
    </inertial>
  </link>
  <gazebo reference="head_hokuyo_frame">
    <sensor name="head_hokuyo_sensor" type="ray">
      <pose>0 0 0 0 0 0</pose>
      <visualize>false</visualize>
      <update_rate>40</update_rate>
      <ray>
        <scan>
          <horizontal>
            <samples>720</samples>
            <resolution>1</resolution>
            <min_angle>-1.570796</min_angle>
            <max_angle>1.570796</max_angle>
          </horizontal>
        </scan>
        <range>
          <min>0.10</min>
          <max>30.0</max>
          <resolution>0.01</resolution>
        </range>
      </ray>
      <plugin filename="libgazebo_ros_laser.so" name="gazebo_ros_head_hokuyo_controller">
        <gaussianNoise>0.005</gaussianNoise>
        <alwaysOn>true</alwaysOn>
        <updateRate>40</updateRate>
        <topicName>/scan</topicName>
        <frameName>head_hokuyo_frame</frameName>
      </plugin>
    </sensor>
  </gazebo>
  <joint name="left_camera_frame_joint" type="fixed">
    <!-- optical frame collocated with tilting DOF -->
    <origin xyz="0.0 0.035 -0.002"/>
    <parent link="head"/>
    <child link="left_camera_frame"/>
  </joint>
  <link name="left_camera_frame">
    <inertial>
      <mass value="0.1"/>
      <origin xyz="0 0 0"/>
      <inertia ixx="0.001" ixy="0.0" ixz="0.0" iyy="0.001" iyz="0.0" izz="0.001"/>
    </inertial>
  </link>
  <joint name="left_camera_optical_frame_joint" type="fixed">
    <origin rpy="-1.5708 0.0 -1.5708" xyz="0 0 0"/>
    <parent link="left_camera_frame"/>
    <child link="left_camera_optical_frame"/>
  </joint>
  <link name="left_camera_optical_frame"/>
  <gazebo reference="left_camera_frame">
    <sensor name="left_camera_sensor" type="camera">
      <!-- update rate based on spec sheet for 2mp 15fps -->
      <update_rate>15.0</update_rate>
      <camera>
        <!-- hfov based on spec sheet, 80 degrees X 45 degrees -->
        <!-- for resolution of 2048 x 1088, we have non-unity aspect ratio -->
        <!-- but gazebo will violate the vertical fov for now to keep aspect ratio of 1 -->
        <horizontal_fov>1.3962634</horizontal_fov>
        <image>
          <width>2048</width>
          <height>1088</height>
          <format>R8G8B8</format>
        </image>
        <clip>
          <near>0.02</near>
          <far>100</far>
        </clip>
      </camera>
      <plugin filename="libgazebo_ros_camera.so" name="left_camera_controller">
        <alwaysOn>true</alwaysOn>
        <!-- update rate based on spec sheet for 2mp 15fps -->
        <updateRate>15.0</updateRate>
        <cameraName>multisense/left</cameraName>
        <imageTopicName>image_raw</imageTopicName>
        <cameraInfoTopicName>camera_info</cameraInfoTopicName>
        <frameName>left_camera_optical_frame</frameName>
        <hackBaseline>0.0</hackBaseline>
        <distortionK1>0.0</distortionK1>
        <distortionK2>0.0</distortionK2>
        <distortionK3>0.0</distortionK3>
        <distortionT1>0.0</distortionT1>
        <distortionT2>0.0</distortionT2>
      </plugin>
    </sensor>
  </gazebo>
  <joint name="right_camera_frame_joint" type="fixed">
    <origin xyz="0.0 -0.035 -0.002"/>
    <parent link="head"/>
    <child link="right_camera_frame"/>
  </joint>
  <link name="right_camera_frame">
    <inertial>
      <mass value="0.1"/>
      <origin xyz="0 0 0"/>
      <inertia ixx="0.001" ixy="0.0" ixz="0.0" iyy="0.001" iyz="0.0" izz="0.001"/>
    </inertial>
  </link>
  <joint name="right_camera_optical_frame_joint" type="fixed">
    <origin rpy="-1.5708 0.0 -1.5708" xyz="0 0 0"/>
    <parent link="right_camera_frame"/>
    <child link="right_camera_optical_frame"/>
  </joint>
  <link name="right_camera_optical_frame"/>
  <gazebo reference="right_camera_frame">
    <sensor name="right_camera_sensor" type="camera">
      <!-- update rate based on spec sheet for 2mp 15fps -->
      <update_rate>15.0</update_rate>
      <camera>
        <!-- hfov based on spec sheet, 80 degrees X 45 degrees -->
        <!-- for resolution of 2048 x 1088, we have non-unity aspect ratio -->
        <!-- but gazebo will violate the vertical fov for now to keep aspect ratio of 1 -->
        <horizontal_fov>1.3962634</horizontal_fov>
        <image>
          <width>2048</width>
          <height>1088</height>
          <format>R8G8B8</format>
        </image>
        <clip>
          <near>0.02</near>
          <far>100</far>
        </clip>
      </camera>
      <plugin filename="libgazebo_ros_camera.so" name="right_camera_controller">
        <alwaysOn>true</alwaysOn>
        <!-- update rate based on spec sheet for 2mp 15fps -->
        <updateRate>15.0</updateRate>
        <cameraName>multisense/right</cameraName>
        <imageTopicName>image_raw</imageTopicName>
        <cameraInfoTopicName>camera_info</cameraInfoTopicName>
        <frameName>left_camera_optical_frame</frameName>
        <hackBaseline>0.07</hackBaseline>
        <distortionK1>0.0</distortionK1>
        <distortionK2>0.0</distortionK2>
        <distortionK3>0.0</distortionK3>
        <distortionT1>0.0</distortionT1>
        <distortionT2>0.0</distortionT2>
      </plugin>
    </sensor>
  </gazebo>
  <joint name="center_top_led_frame_joint" type="fixed">
    <origin xyz="0.01125 0.0 0.0105"/>
    <parent link="head"/>
    <child link="center_top_led_frame"/>
  </joint>
  <link name="center_top_led_frame">
    <inertial>
      <mass value="0.1"/>
      <origin xyz="0 0 0"/>
      <inertia ixx="0.001" ixy="0.0" ixz="0.0" iyy="0.001" iyz="0.0" izz="0.001"/>
    </inertial>
  </link>
  <joint name="center_bottom_led_frame_joint" type="fixed">
    <origin xyz="0.01125 0.0 -0.0155"/>
    <parent link="head"/>
    <child link="center_bottom_led_frame"/>
  </joint>
  <link name="center_bottom_led_frame">
    <inertial>
      <mass value="0.1"/>
      <origin xyz="0 0 0"/>
      <inertia ixx="0.001" ixy="0.0" ixz="0.0" iyy="0.001" iyz="0.0" izz="0.001"/>
    </inertial>
  </link>
  <joint name="left_led_frame_joint" type="fixed">
    <origin rpy="0 -0.15 0.53" xyz="-0.01443 0.07452 0.050346"/>
    <parent link="head"/>
    <child link="left_led_frame"/>
  </joint>
  <link name="left_led_frame">
    <inertial>
      <mass value="0.1"/>
      <origin xyz="0 0 0"/>
      <inertia ixx="0.001" ixy="0.0" ixz="0.0" iyy="0.001" iyz="0.0" izz="0.001"/>
    </inertial>
  </link>
  <joint name="right_led_frame_joint" type="fixed">
    <origin rpy="0 -0.15 -0.53" xyz="-0.01443 -0.07452 0.050346"/>
    <parent link="head"/>
    <child link="right_led_frame"/>
  </joint>
  <link name="right_led_frame">
    <inertial>
      <mass value="0.1"/>
      <origin xyz="0 0 0"/>
      <inertia ixx="0.001" ixy="0.0" ixz="0.0" iyy="0.001" iyz="0.0" izz="0.001"/>
    </inertial>
  </link>
  <gazebo reference="r_foot">
    <!-- contact sensor -->
    <sensor name="r_foot_contact_sensor" type="contact">
      <update_rate>1000.0</update_rate>
      <always_on>1</always_on>
      <contact>
        <topic>/r_foot_contact</topic>
      </contact>
    </sensor>
  </gazebo>
  <gazebo reference="l_foot">
    <!-- contact sensor -->
    <sensor name="l_foot_contact_sensor" type="contact">
      <update_rate>1000.0</update_rate>
      <always_on>1</always_on>
      <contact>
        <topic>/l_foot_contact</topic>
      </contact>
    </sensor>
  </gazebo>
  <transmission name="head_hokuyo_trans" type="pr2_mechanism_model/SimpleTransmission">
    <joint name="hokuyo_joint"/>
    <actuator name="hokuyo_motor"/>
    <mechanicalReduction>1</mechanicalReduction>
  </transmission>
  <transmission name="back_bkz_trans" type="pr2_mechanism_model/SimpleTransmission">
    <joint name="back_bkz"/>
    <actuator name="back_bkz_motor"/>
    <mechanicalReduction>1</mechanicalReduction>
  </transmission>
  <transmission name="back_bky_trans" type="pr2_mechanism_model/SimpleTransmission">
    <actuator name="back_bky_motor"/>
    <joint name="back_bky"/>
    <mechanicalReduction>1</mechanicalReduction>
  </transmission>
  <transmission name="back_bkx_trans" type="pr2_mechanism_model/SimpleTransmission">
    <actuator name="back_bkx_motor"/>
    <joint name="back_bkx"/>
    <mechanicalReduction>1</mechanicalReduction>
  </transmission>
  <transmission name="l_arm_elx_trans" type="pr2_mechanism_model/SimpleTransmission">
    <actuator name="l_arm_elx_motor"/>
    <joint name="l_arm_elx"/>
    <mechanicalReduction>1</mechanicalReduction>
  </transmission>
  <transmission name="l_arm_ely_trans" type="pr2_mechanism_model/SimpleTransmission">
    <actuator name="l_arm_ely_motor"/>
    <joint name="l_arm_ely"/>
    <mechanicalReduction>1</mechanicalReduction>
  </transmission>
  <transmission name="l_arm_mwx_trans" type="pr2_mechanism_model/SimpleTransmission">
    <actuator name="l_arm_mwx_motor"/>
    <joint name="l_arm_mwx"/>
    <mechanicalReduction>1</mechanicalReduction>
  </transmission>
  <transmission name="l_arm_shx_trans" type="pr2_mechanism_model/SimpleTransmission">
    <actuator name="l_arm_shx_motor"/>
    <joint name="l_arm_shx"/>
    <mechanicalReduction>1</mechanicalReduction>
  </transmission>
  <transmission name="l_arm_shz_trans" type="pr2_mechanism_model/SimpleTransmission">
    <actuator name="l_arm_shz_motor"/>
    <joint name="l_arm_shz"/>
    <mechanicalReduction>1</mechanicalReduction>
  </transmission>
  <transmission name="l_arm_uwy_trans" type="pr2_mechanism_model/SimpleTransmission">
    <actuator name="l_arm_uwy_motor"/>
    <joint name="l_arm_uwy"/>
    <mechanicalReduction>1</mechanicalReduction>
  </transmission>
  <transmission name="l_arm_lwy_trans" type="pr2_mechanism_model/SimpleTransmission">
    <actuator name="l_arm_lwy_motor"/>
    <joint name="l_arm_lwy"/>
    <mechanicalReduction>1</mechanicalReduction>
  </transmission>
  <transmission name="l_leg_kny_trans" type="pr2_mechanism_model/SimpleTransmission">
    <actuator name="l_leg_kny_motor"/>
    <joint name="l_leg_kny"/>
    <mechanicalReduction>1</mechanicalReduction>
  </transmission>
  <transmission name="l_leg_akx_trans" type="pr2_mechanism_model/SimpleTransmission">
    <actuator name="l_leg_akx_motor"/>
    <joint name="l_leg_akx"/>
    <mechanicalReduction>1</mechanicalReduction>
  </transmission>
  <transmission name="l_leg_hpy_trans" type="pr2_mechanism_model/SimpleTransmission">
    <actuator name="l_leg_hpy_motor"/>
    <joint name="l_leg_hpy"/>
    <mechanicalReduction>1</mechanicalReduction>
  </transmission>
  <transmission name="l_leg_hpx_trans" type="pr2_mechanism_model/SimpleTransmission">
    <actuator name="l_leg_hpx_motor"/>
    <joint name="l_leg_hpx"/>
    <mechanicalReduction>1</mechanicalReduction>
  </transmission>
  <transmission name="l_leg_aky_trans" type="pr2_mechanism_model/SimpleTransmission">
    <actuator name="l_leg_aky_motor"/>
    <joint name="l_leg_aky"/>
    <mechanicalReduction>1</mechanicalReduction>
  </transmission>
  <transmission name="l_leg_hpz_trans" type="pr2_mechanism_model/SimpleTransmission">
    <actuator name="l_leg_hpz_motor"/>
    <joint name="l_leg_hpz"/>
    <mechanicalReduction>1</mechanicalReduction>
  </transmission>
  <transmission name="neck_ay_trans" type="pr2_mechanism_model/SimpleTransmission">
    <actuator name="neck_ay_motor"/>
    <joint name="neck_ay"/>
    <mechanicalReduction>1</mechanicalReduction>
  </transmission>
  <transmission name="r_arm_elx_trans" type="pr2_mechanism_model/SimpleTransmission">
    <actuator name="r_arm_elx_motor"/>
    <joint name="r_arm_elx"/>
    <mechanicalReduction>1</mechanicalReduction>
  </transmission>
  <transmission name="r_arm_ely_trans" type="pr2_mechanism_model/SimpleTransmission">
    <actuator name="r_arm_ely_motor"/>
    <joint name="r_arm_ely"/>
    <mechanicalReduction>1</mechanicalReduction>
  </transmission>
  <transmission name="r_arm_mwx_trans" type="pr2_mechanism_model/SimpleTransmission">
    <actuator name="r_arm_mwx_motor"/>
    <joint name="r_arm_mwx"/>
    <mechanicalReduction>1</mechanicalReduction>
  </transmission>
  <transmission name="r_arm_shx_trans" type="pr2_mechanism_model/SimpleTransmission">
    <actuator name="r_arm_shx_motor"/>
    <joint name="r_arm_shx"/>
    <mechanicalReduction>1</mechanicalReduction>
  </transmission>
  <transmission name="r_arm_shz_trans" type="pr2_mechanism_model/SimpleTransmission">
    <actuator name="r_arm_shz_motor"/>
    <joint name="r_arm_shz"/>
    <mechanicalReduction>1</mechanicalReduction>
  </transmission>
  <transmission name="r_arm_uwy_trans" type="pr2_mechanism_model/SimpleTransmission">
    <actuator name="r_arm_uwy_motor"/>
    <joint name="r_arm_uwy"/>
    <mechanicalReduction>1</mechanicalReduction>
  </transmission>
  <transmission name="r_arm_lwy_trans" type="pr2_mechanism_model/SimpleTransmission">
    <actuator name="r_arm_lwy_motor"/>
    <joint name="r_arm_lwy"/>
    <mechanicalReduction>1</mechanicalReduction>
  </transmission>
  <transmission name="r_leg_kny_trans" type="pr2_mechanism_model/SimpleTransmission">
    <actuator name="r_leg_kny_motor"/>
    <joint name="r_leg_kny"/>
    <mechanicalReduction>1</mechanicalReduction>
  </transmission>
  <transmission name="r_leg_akx_trans" type="pr2_mechanism_model/SimpleTransmission">
    <actuator name="r_leg_akx_motor"/>
    <joint name="r_leg_akx"/>
    <mechanicalReduction>1</mechanicalReduction>
  </transmission>
  <transmission name="r_leg_hpy_trans" type="pr2_mechanism_model/SimpleTransmission">
    <actuator name="r_leg_hpy_motor"/>
    <joint name="r_leg_hpy"/>
    <mechanicalReduction>1</mechanicalReduction>
  </transmission>
  <transmission name="r_leg_hpx_trans" type="pr2_mechanism_model/SimpleTransmission">
    <actuator name="r_leg_hpx_motor"/>
    <joint name="r_leg_hpx"/>
    <mechanicalReduction>1</mechanicalReduction>
  </transmission>
  <transmission name="r_leg_aky_trans" type="pr2_mechanism_model/SimpleTransmission">
    <actuator name="r_leg_aky_motor"/>
    <joint name="r_leg_aky"/>
    <mechanicalReduction>1</mechanicalReduction>
  </transmission>
  <transmission name="r_leg_hpz_trans" type="pr2_mechanism_model/SimpleTransmission">
    <actuator name="r_leg_hpz_motor"/>
    <joint name="r_leg_hpz"/>
    <mechanicalReduction>1</mechanicalReduction>
  </transmission>
  <link name="l_hand_force_torque">
    <inertial>
      <mass value="0.1"/>
      <origin xyz="0 0 0"/>
      <inertia ixx="0.00001" ixy="0" ixz="0" iyy="0.00001" iyz="0" izz="0.00001"/>
    </inertial>
    <visual>
      <origin rpy="0 0 0" xyz="0 0 0"/>
      <geometry>
        <box size="0.01 0.01 0.01"/>
      </geometry>
    </visual>
  </link>
  <joint name="l_hand_force_torque_joint" type="fixed">
    <origin rpy="0 0 3.141592" xyz="0 -0.1245 0.0112"/>
    <parent link="l_hand"/>
    <child link="l_hand_force_torque"/>
  </joint>
  <link name="r_hand_force_torque">
    <inertial>
      <mass value="0.1"/>
      <origin xyz="0 0 0"/>
      <inertia ixx="0.00001" ixy="0" ixz="0" iyy="0.00001" iyz="0" izz="0.00001"/>
    </inertial>
    <visual>
      <origin rpy="0 0 0" xyz="0 0 0"/>
      <geometry>
        <box size="0.01 0.01 0.01"/>
      </geometry>
    </visual>
  </link>
  <joint name="r_hand_force_torque_joint" type="fixed">
    <origin rpy="0 0 3.141592" xyz="0 -0.1245 -0.0112"/>
    <parent link="r_hand"/>
    <child link="r_hand_force_torque"/>
  </joint>
  <!-- Set the initial hand position and orientation by changing 'rpy' and 'xyz'
  to mach the values in your actual robot. -->
  <joint name="left_robotiq_hand_joint" type="fixed">
    <origin rpy="0 -1.57079 0" xyz="0 0.06566 0.0"/>
    <parent link="l_hand_force_torque"/>
    <child link="left_palm"/>
  </joint>
  <link name="left_finger_1_link_0">
    <visual>
      <origin rpy="0 0 0" xyz="0.020 0 0"/>
      <geometry>
        <mesh filename="package://robotiq_hand_description/meshes/s-model_articulated/visual/link_0.obj"/>
      </geometry>
      <material name="green">
        <color rgba="0 1 0 1"/>
      </material>
    </visual>
  </link>
  <link name="left_finger_1_link_1">
    <visual>
      <origin rpy="0 0 -0.52" xyz="0.050 -.028 0"/>
      <geometry>
        <mesh filename="package://robotiq_hand_description/meshes/s-model_articulated/visual/link_1.obj"/>
      </geometry>
      <material name="green"/>
    </visual>
  </link>
  <link name="left_finger_1_link_2">
    <!--
			NOTE: This link has an offset in the z-direction based on the models that were
			used to generate grap-it poses.  With the offset below the model appears visually
			correct, but it is suspect.
			-->
    <visual>
      <origin rpy="0 0 0" xyz="0.039 0 0.0075"/>
      <geometry>
        <mesh filename="package://robotiq_hand_description/meshes/s-model_articulated/visual/link_2.obj"/>
      </geometry>
      <material name="green"/>
    </visual>
  </link>
  <link name="left_finger_1_link_3">
    <visual>
      <origin rpy="0 0 0.52" xyz="0 0 0"/>
      <geometry>
        <mesh filename="package://robotiq_hand_description/meshes/s-model_articulated/visual/link_3.obj"/>
      </geometry>
      <material name="green"/>
    </visual>
  </link>
  <joint name="left_finger_1_joint_1" type="fixed">
    <parent link="left_finger_1_link_0"/>
    <child link="left_finger_1_link_1"/>
    <axis xyz="0 0 1"/>
    <origin rpy="0 0 0" xyz="0.020 0 0"/>
    <limit effort="100" lower="0" upper="3.1416" velocity="100"/>
  </joint>
  <joint name="left_finger_1_joint_2" type="fixed">
    <parent link="left_finger_1_link_1"/>
    <child link="left_finger_1_link_2"/>
    <axis xyz="0 0 1"/>
    <origin rpy="0 0 -0.52" xyz="0.050 -.028 0"/>
    <limit effort="100" lower="0" upper="3.1416" velocity="100"/>
  </joint>
  <joint name="left_finger_1_joint_3" type="fixed">
    <parent link="left_finger_1_link_2"/>
    <child link="left_finger_1_link_3"/>
    <axis xyz="0 0 1"/>
    <origin rpy="0 0 0" xyz="0.039 0 0"/>
    <limit effort="100" lower="0" upper="3.1416" velocity="100"/>
  </joint>
  <link name="left_finger_2_link_0">
    <visual>
      <origin rpy="0 0 0" xyz="0.020 0 0"/>
      <geometry>
        <mesh filename="package://robotiq_hand_description/meshes/s-model_articulated/visual/link_0.obj"/>
      </geometry>
      <material name="green">
        <color rgba="0 1 0 1"/>
      </material>
    </visual>
  </link>
  <link name="left_finger_2_link_1">
    <visual>
      <origin rpy="0 0 -0.52" xyz="0.050 -.028 0"/>
      <geometry>
        <mesh filename="package://robotiq_hand_description/meshes/s-model_articulated/visual/link_1.obj"/>
      </geometry>
      <material name="green"/>
    </visual>
  </link>
  <link name="left_finger_2_link_2">
    <!--
			NOTE: This link has an offset in the z-direction based on the models that were
			used to generate grap-it poses.  With the offset below the model appears visually
			correct, but it is suspect.
			-->
    <visual>
      <origin rpy="0 0 0" xyz="0.039 0 0.0075"/>
      <geometry>
        <mesh filename="package://robotiq_hand_description/meshes/s-model_articulated/visual/link_2.obj"/>
      </geometry>
      <material name="green"/>
    </visual>
  </link>
  <link name="left_finger_2_link_3">
    <visual>
      <origin rpy="0 0 0.52" xyz="0 0 0"/>
      <geometry>
        <mesh filename="package://robotiq_hand_description/meshes/s-model_articulated/visual/link_3.obj"/>
      </geometry>
      <material name="green"/>
    </visual>
  </link>
  <joint name="left_finger_2_joint_1" type="fixed">
    <parent link="left_finger_2_link_0"/>
    <child link="left_finger_2_link_1"/>
    <axis xyz="0 0 1"/>
    <origin rpy="0 0 0" xyz="0.020 0 0"/>
    <limit effort="100" lower="0" upper="3.1416" velocity="100"/>
  </joint>
  <joint name="left_finger_2_joint_2" type="fixed">
    <parent link="left_finger_2_link_1"/>
    <child link="left_finger_2_link_2"/>
    <axis xyz="0 0 1"/>
    <origin rpy="0 0 -0.52" xyz="0.050 -.028 0"/>
    <limit effort="100" lower="0" upper="3.1416" velocity="100"/>
  </joint>
  <joint name="left_finger_2_joint_3" type="fixed">
    <parent link="left_finger_2_link_2"/>
    <child link="left_finger_2_link_3"/>
    <axis xyz="0 0 1"/>
    <origin rpy="0 0 0" xyz="0.039 0 0"/>
    <limit effort="100" lower="0" upper="3.1416" velocity="100"/>
  </joint>
  <link name="left_finger_middle_link_0">
    <visual>
      <origin rpy="0 0 0" xyz="0.020 0 0"/>
      <geometry>
        <mesh filename="package://robotiq_hand_description/meshes/s-model_articulated/visual/link_0.obj"/>
      </geometry>
      <material name="green">
        <color rgba="0 1 0 1"/>
      </material>
    </visual>
  </link>
  <link name="left_finger_middle_link_1">
    <visual>
      <origin rpy="0 0 -0.52" xyz="0.050 -.028 0"/>
      <geometry>
        <mesh filename="package://robotiq_hand_description/meshes/s-model_articulated/visual/link_1.obj"/>
      </geometry>
      <material name="green"/>
    </visual>
  </link>
  <link name="left_finger_middle_link_2">
    <!--
			NOTE: This link has an offset in the z-direction based on the models that were
			used to generate grap-it poses.  With the offset below the model appears visually
			correct, but it is suspect.
			-->
    <visual>
      <origin rpy="0 0 0" xyz="0.039 0 0.0075"/>
      <geometry>
        <mesh filename="package://robotiq_hand_description/meshes/s-model_articulated/visual/link_2.obj"/>
      </geometry>
      <material name="green"/>
    </visual>
  </link>
  <link name="left_finger_middle_link_3">
    <visual>
      <origin rpy="0 0 0.52" xyz="0 0 0"/>
      <geometry>
        <mesh filename="package://robotiq_hand_description/meshes/s-model_articulated/visual/link_3.obj"/>
      </geometry>
      <material name="green"/>
    </visual>
  </link>
  <joint name="left_finger_middle_joint_1" type="fixed">
    <parent link="left_finger_middle_link_0"/>
    <child link="left_finger_middle_link_1"/>
    <axis xyz="0 0 1"/>
    <origin rpy="0 0 0" xyz="0.020 0 0"/>
    <limit effort="100" lower="0" upper="3.1416" velocity="100"/>
  </joint>
  <joint name="left_finger_middle_joint_2" type="fixed">
    <parent link="left_finger_middle_link_1"/>
    <child link="left_finger_middle_link_2"/>
    <axis xyz="0 0 1"/>
    <origin rpy="0 0 -0.52" xyz="0.050 -.028 0"/>
    <limit effort="100" lower="0" upper="3.1416" velocity="100"/>
  </joint>
  <joint name="left_finger_middle_joint_3" type="fixed">
    <parent link="left_finger_middle_link_2"/>
    <child link="left_finger_middle_link_3"/>
    <axis xyz="0 0 1"/>
    <origin rpy="0 0 0" xyz="0.039 0 0"/>
    <limit effort="100" lower="0" upper="3.1416" velocity="100"/>
  </joint>
  <link name="left_palm">
    <visual>
      <geometry>
        <mesh filename="package://robotiq_hand_description/meshes/s-model_articulated/visual/palm.obj"/>
      </geometry>
      <material name="green">
        <color rgba="0 1 0 1"/>
      </material>
    </visual>
  </link>
  <joint name="left_palm_finger_1_joint" type="fixed">
    <parent link="left_palm"/>
    <child link="left_finger_1_link_0"/>
    <axis xyz="0 1 0"/>
    <origin rpy="0 3.1416 -1.57" xyz="-0.0455 0.0214 0.036"/>
    <limit effort="100" lower="-0.16" upper="0.25" velocity="100"/>
  </joint>
  <joint name="left_palm_finger_2_joint" type="fixed">
    <parent link="left_palm"/>
    <child link="left_finger_2_link_0"/>
    <axis xyz="0 1 0"/>
    <origin rpy="0 3.1416 -1.57" xyz="-0.0455 0.0214 -0.036"/>
    <limit effort="100" lower="-0.25" upper="0.16" velocity="100"/>
  </joint>
  <joint name="left_palm_finger_middle_joint" type="fixed">
    <parent link="left_palm"/>
    <child link="left_finger_middle_link_0"/>
    <axis xyz="0 0 1"/>
    <origin rpy="0 0 1.57" xyz="0.0455 0.0214 0"/>
  </joint>
  <joint name="right_robotiq_hand_joint" type="fixed">
    <origin rpy="0 -1.57079 0" xyz="0 0.06566 0.0"/>
    <parent link="r_hand_force_torque"/>
    <child link="right_palm"/>
  </joint>
  <link name="right_finger_1_link_0">
    <visual>
      <origin rpy="0 0 0" xyz="0.020 0 0"/>
      <geometry>
        <mesh filename="package://robotiq_hand_description/meshes/s-model_articulated/visual/link_0.obj"/>
      </geometry>
      <material name="green">
        <color rgba="0 1 0 1"/>
      </material>
    </visual>
  </link>
  <link name="right_finger_1_link_1">
    <visual>
      <origin rpy="0 0 -0.52" xyz="0.050 -.028 0"/>
      <geometry>
        <mesh filename="package://robotiq_hand_description/meshes/s-model_articulated/visual/link_1.obj"/>
      </geometry>
      <material name="green"/>
    </visual>
  </link>
  <link name="right_finger_1_link_2">
    <!--
			NOTE: This link has an offset in the z-direction based on the models that were
			used to generate grap-it poses.  With the offset below the model appears visually
			correct, but it is suspect.
			-->
    <visual>
      <origin rpy="0 0 0" xyz="0.039 0 0.0075"/>
      <geometry>
        <mesh filename="package://robotiq_hand_description/meshes/s-model_articulated/visual/link_2.obj"/>
      </geometry>
      <material name="green"/>
    </visual>
  </link>
  <link name="right_finger_1_link_3">
    <visual>
      <origin rpy="0 0 0.52" xyz="0 0 0"/>
      <geometry>
        <mesh filename="package://robotiq_hand_description/meshes/s-model_articulated/visual/link_3.obj"/>
      </geometry>
      <material name="green"/>
    </visual>
  </link>
  <joint name="right_finger_1_joint_1" type="fixed">
    <parent link="right_finger_1_link_0"/>
    <child link="right_finger_1_link_1"/>
    <axis xyz="0 0 1"/>
    <origin rpy="0 0 0" xyz="0.020 0 0"/>
    <limit effort="100" lower="0" upper="3.1416" velocity="100"/>
  </joint>
  <joint name="right_finger_1_joint_2" type="fixed">
    <parent link="right_finger_1_link_1"/>
    <child link="right_finger_1_link_2"/>
    <axis xyz="0 0 1"/>
    <origin rpy="0 0 -0.52" xyz="0.050 -.028 0"/>
    <limit effort="100" lower="0" upper="3.1416" velocity="100"/>
  </joint>
  <joint name="right_finger_1_joint_3" type="fixed">
    <parent link="right_finger_1_link_2"/>
    <child link="right_finger_1_link_3"/>
    <axis xyz="0 0 1"/>
    <origin rpy="0 0 0" xyz="0.039 0 0"/>
    <limit effort="100" lower="0" upper="3.1416" velocity="100"/>
  </joint>
  <link name="right_finger_2_link_0">
    <visual>
      <origin rpy="0 0 0" xyz="0.020 0 0"/>
      <geometry>
        <mesh filename="package://robotiq_hand_description/meshes/s-model_articulated/visual/link_0.obj"/>
      </geometry>
      <material name="green">
        <color rgba="0 1 0 1"/>
      </material>
    </visual>
  </link>
  <link name="right_finger_2_link_1">
    <visual>
      <origin rpy="0 0 -0.52" xyz="0.050 -.028 0"/>
      <geometry>
        <mesh filename="package://robotiq_hand_description/meshes/s-model_articulated/visual/link_1.obj"/>
      </geometry>
      <material name="green"/>
    </visual>
  </link>
  <link name="right_finger_2_link_2">
    <!--
			NOTE: This link has an offset in the z-direction based on the models that were
			used to generate grap-it poses.  With the offset below the model appears visually
			correct, but it is suspect.
			-->
    <visual>
      <origin rpy="0 0 0" xyz="0.039 0 0.0075"/>
      <geometry>
        <mesh filename="package://robotiq_hand_description/meshes/s-model_articulated/visual/link_2.obj"/>
      </geometry>
      <material name="green"/>
    </visual>
  </link>
  <link name="right_finger_2_link_3">
    <visual>
      <origin rpy="0 0 0.52" xyz="0 0 0"/>
      <geometry>
        <mesh filename="package://robotiq_hand_description/meshes/s-model_articulated/visual/link_3.obj"/>
      </geometry>
      <material name="green"/>
    </visual>
  </link>
  <joint name="right_finger_2_joint_1" type="fixed">
    <parent link="right_finger_2_link_0"/>
    <child link="right_finger_2_link_1"/>
    <axis xyz="0 0 1"/>
    <origin rpy="0 0 0" xyz="0.020 0 0"/>
    <limit effort="100" lower="0" upper="3.1416" velocity="100"/>
  </joint>
  <joint name="right_finger_2_joint_2" type="fixed">
    <parent link="right_finger_2_link_1"/>
    <child link="right_finger_2_link_2"/>
    <axis xyz="0 0 1"/>
    <origin rpy="0 0 -0.52" xyz="0.050 -.028 0"/>
    <limit effort="100" lower="0" upper="3.1416" velocity="100"/>
  </joint>
  <joint name="right_finger_2_joint_3" type="fixed">
    <parent link="right_finger_2_link_2"/>
    <child link="right_finger_2_link_3"/>
    <axis xyz="0 0 1"/>
    <origin rpy="0 0 0" xyz="0.039 0 0"/>
    <limit effort="100" lower="0" upper="3.1416" velocity="100"/>
  </joint>
  <link name="right_finger_middle_link_0">
    <visual>
      <origin rpy="0 0 0" xyz="0.020 0 0"/>
      <geometry>
        <mesh filename="package://robotiq_hand_description/meshes/s-model_articulated/visual/link_0.obj"/>
      </geometry>
      <material name="green">
        <color rgba="0 1 0 1"/>
      </material>
    </visual>
  </link>
  <link name="right_finger_middle_link_1">
    <visual>
      <origin rpy="0 0 -0.52" xyz="0.050 -.028 0"/>
      <geometry>
        <mesh filename="package://robotiq_hand_description/meshes/s-model_articulated/visual/link_1.obj"/>
      </geometry>
      <material name="green"/>
    </visual>
  </link>
  <link name="right_finger_middle_link_2">
    <!--
			NOTE: This link has an offset in the z-direction based on the models that were
			used to generate grap-it poses.  With the offset below the model appears visually
			correct, but it is suspect.
			-->
    <visual>
      <origin rpy="0 0 0" xyz="0.039 0 0.0075"/>
      <geometry>
        <mesh filename="package://robotiq_hand_description/meshes/s-model_articulated/visual/link_2.obj"/>
      </geometry>
      <material name="green"/>
    </visual>
  </link>
  <link name="right_finger_middle_link_3">
    <visual>
      <origin rpy="0 0 0.52" xyz="0 0 0"/>
      <geometry>
        <mesh filename="package://robotiq_hand_description/meshes/s-model_articulated/visual/link_3.obj"/>
      </geometry>
      <material name="green"/>
    </visual>
  </link>
  <joint name="right_finger_middle_joint_1" type="fixed">
    <parent link="right_finger_middle_link_0"/>
    <child link="right_finger_middle_link_1"/>
    <axis xyz="0 0 1"/>
    <origin rpy="0 0 0" xyz="0.020 0 0"/>
    <limit effort="100" lower="0" upper="3.1416" velocity="100"/>
  </joint>
  <joint name="right_finger_middle_joint_2" type="fixed">
    <parent link="right_finger_middle_link_1"/>
    <child link="right_finger_middle_link_2"/>
    <axis xyz="0 0 1"/>
    <origin rpy="0 0 -0.52" xyz="0.050 -.028 0"/>
    <limit effort="100" lower="0" upper="3.1416" velocity="100"/>
  </joint>
  <joint name="right_finger_middle_joint_3" type="fixed">
    <parent link="right_finger_middle_link_2"/>
    <child link="right_finger_middle_link_3"/>
    <axis xyz="0 0 1"/>
    <origin rpy="0 0 0" xyz="0.039 0 0"/>
    <limit effort="100" lower="0" upper="3.1416" velocity="100"/>
  </joint>
  <link name="right_palm">
    <visual>
      <geometry>
        <mesh filename="package://robotiq_hand_description/meshes/s-model_articulated/visual/palm.obj"/>
      </geometry>
      <material name="green">
        <color rgba="0 1 0 1"/>
      </material>
    </visual>
  </link>
  <joint name="right_palm_finger_1_joint" type="fixed">
    <parent link="right_palm"/>
    <child link="right_finger_1_link_0"/>
    <axis xyz="0 1 0"/>
    <origin rpy="0 3.1416 -1.57" xyz="-0.0455 0.0214 0.036"/>
    <limit effort="100" lower="-0.16" upper="0.25" velocity="100"/>
  </joint>
  <joint name="right_palm_finger_2_joint" type="fixed">
    <parent link="right_palm"/>
    <child link="right_finger_2_link_0"/>
    <axis xyz="0 1 0"/>
    <origin rpy="0 3.1416 -1.57" xyz="-0.0455 0.0214 -0.036"/>
    <limit effort="100" lower="-0.25" upper="0.16" velocity="100"/>
  </joint>
  <joint name="right_palm_finger_middle_joint" type="fixed">
    <parent link="right_palm"/>
    <child link="right_finger_middle_link_0"/>
    <axis xyz="0 0 1"/>
    <origin rpy="0 0 1.57" xyz="0.0455 0.0214 0"/>
  </joint>
  <joint name="l_hand_face_joint" type="fixed">
    <origin rpy="0.0 0.0 0.0" xyz="0 0.12 0"/>
    <parent link="l_hand_force_torque"/>
    <child link="l_hand_face"/>
  </joint>
  <link name="l_hand_face"/>
  <joint name="l_hand_gripper_joint" type="fixed">
    <origin rpy="0.0 0.0 0.0" xyz="0 0.18 0"/>
    <parent link="l_hand_force_torque"/>
    <child link="l_hand_gripper"/>
  </joint>
  <link name="l_hand_gripper"/>
  <link name="l_hand_camera_link"/>
  <joint name="l_hand_camera_joint" type="fixed">
    <parent link="l_hand_force_torque"/>
    <child link="l_hand_camera_link"/>
    <!-- new camera has no inward angle, placeholder is still here in case it is later tilted-->
    <origin rpy=" -1.57079 0  1.5708" xyz="-0.09892  0.01431 0.0"/>
  </joint>
  <joint name="l_hand_camera_optical_frame_joint" type="fixed">
    <origin rpy="-1.57079 0.0 -1.57079" xyz="0 0 0"/>
    <parent link="l_hand_camera_link"/>
    <child link="l_hand_camera_optical_frame"/>
  </joint>
  <link name="l_hand_camera_optical_frame"/>
  <gazebo reference="l_hand_camera_link">
    <sensor name="l_hand_camera_sensor" type="camera">
      <update_rate>10.0</update_rate>
      <camera name="l_hand_camera">
        <pose>0 0 0 0 0 0</pose>
        <!-- m.antone estimate of 2.8mm tamron lense fov -->
        <horizontal_fov>1.7281</horizontal_fov>
        <image>
          <width>1280</width>
          <height>1024</height>
          <format>R8G8B8</format>
        </image>
        <clip>
          <near>0.02</near>
          <far>100</far>
        </clip>
        <noise>
          <type>gaussian</type>
          <!-- Noise is sampled independently per pixel on each frame.
               That pixel's noise value is added to each of its color
               channels, which at that point lie in the range [0,1].
               The stddev value of 0.007 is based on experimental data 
               from a camera in a Sandia hand pointed at a static scene
               in a couple of different lighting conditions.  -->
          <mean>0.0</mean>
          <stddev>0.007</stddev>
        </noise>
      </camera>
      <plugin filename="libgazebo_ros_camera.so" name="l_hand_camera_controller">
        <alwaysOn>true</alwaysOn>
        <updateRate>0.0</updateRate>
        <cameraName>robotiq_hands/l_hand_camera</cameraName>
        <imageTopicName>image_raw</imageTopicName>
        <cameraInfoTopicName>camera_info</cameraInfoTopicName>
        <frameName>l_hand_camera_optical_frame</frameName>
        <hackBaseline>0.07</hackBaseline>
        <distortionK1>0.0</distortionK1>
        <distortionK2>0.0</distortionK2>
        <distortionK3>0.0</distortionK3>
        <distortionT1>0.0</distortionT1>
        <distortionT2>0.0</distortionT2>
      </plugin>
    </sensor>
  </gazebo>
  <joint name="r_hand_face_joint" type="fixed">
    <origin rpy="0.0 0.0 0.0" xyz="0 0.12 0"/>
    <parent link="r_hand_force_torque"/>
    <child link="r_hand_face"/>
  </joint>
  <link name="r_hand_face"/>
  <joint name="r_hand_gripper_joint" type="fixed">
    <origin rpy="0.0 0.0 0.0" xyz="0 0.18 0"/>
    <parent link="r_hand_force_torque"/>
    <child link="r_hand_gripper"/>
  </joint>
  <link name="r_hand_gripper"/>
  <link name="r_hand_camera_link"/>
  <joint name="r_hand_camera_joint" type="fixed">
    <parent link="r_hand_force_torque"/>
    <child link="r_hand_camera_link"/>
    <!-- new camera has no inward angle, placeholder is still here in case it is later tilted-->
    <origin rpy=" 1.57079 0  1.5708" xyz="0.09892  0.01431 0.0"/>
  </joint>
  <joint name="r_hand_camera_optical_frame_joint" type="fixed">
    <origin rpy="-1.57079 0.0 -1.57079" xyz="0 0 0"/>
    <parent link="r_hand_camera_link"/>
    <child link="r_hand_camera_optical_frame"/>
  </joint>
  <link name="r_hand_camera_optical_frame"/>
  <gazebo reference="r_hand_camera_link">
    <sensor name="r_hand_camera_sensor" type="camera">
      <update_rate>10.0</update_rate>
      <camera name="r_hand_camera">
        <pose>0 0 0 0 0 0</pose>
        <!-- m.antone estimate of 2.8mm tamron lense fov -->
        <horizontal_fov>1.7281</horizontal_fov>
        <image>
          <width>1280</width>
          <height>1024</height>
          <format>R8G8B8</format>
        </image>
        <clip>
          <near>0.02</near>
          <far>100</far>
        </clip>
        <noise>
          <type>gaussian</type>
          <!-- Noise is sampled independently per pixel on each frame.
               That pixel's noise value is added to each of its color
               channels, which at that point lie in the range [0,1].
               The stddev value of 0.007 is based on experimental data 
               from a camera in a Sandia hand pointed at a static scene
               in a couple of different lighting conditions.  -->
          <mean>0.0</mean>
          <stddev>0.007</stddev>
        </noise>
      </camera>
      <plugin filename="libgazebo_ros_camera.so" name="r_hand_camera_controller">
        <alwaysOn>true</alwaysOn>
        <updateRate>0.0</updateRate>
        <cameraName>robotiq_hands/r_hand_camera</cameraName>
        <imageTopicName>image_raw</imageTopicName>
        <cameraInfoTopicName>camera_info</cameraInfoTopicName>
        <frameName>r_hand_camera_optical_frame</frameName>
        <hackBaseline>0.07</hackBaseline>
        <distortionK1>0.0</distortionK1>
        <distortionK2>0.0</distortionK2>
        <distortionK3>0.0</distortionK3>
        <distortionT1>0.0</distortionT1>
        <distortionT2>0.0</distortionT2>
      </plugin>
    </sensor>
  </gazebo>
</robot>
